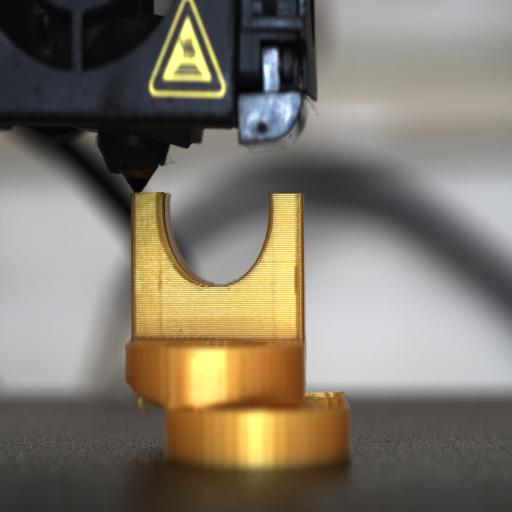layer_shift: (134, 387, 353, 421)
